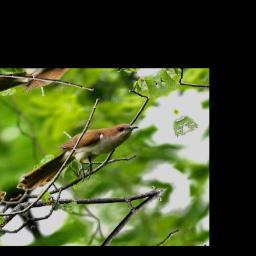Cuckoo: (5, 110, 152, 207)
